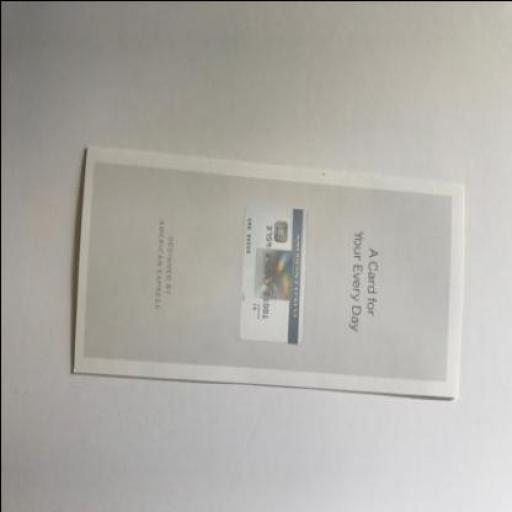paper: (73, 145, 464, 401)
